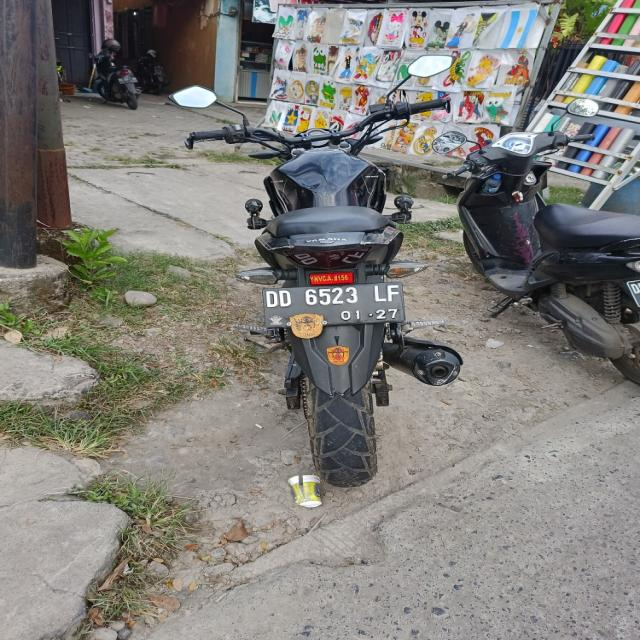plates: (269, 282, 412, 322)
